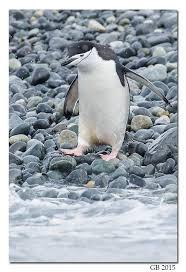chinstrap: (60, 37, 153, 182)
